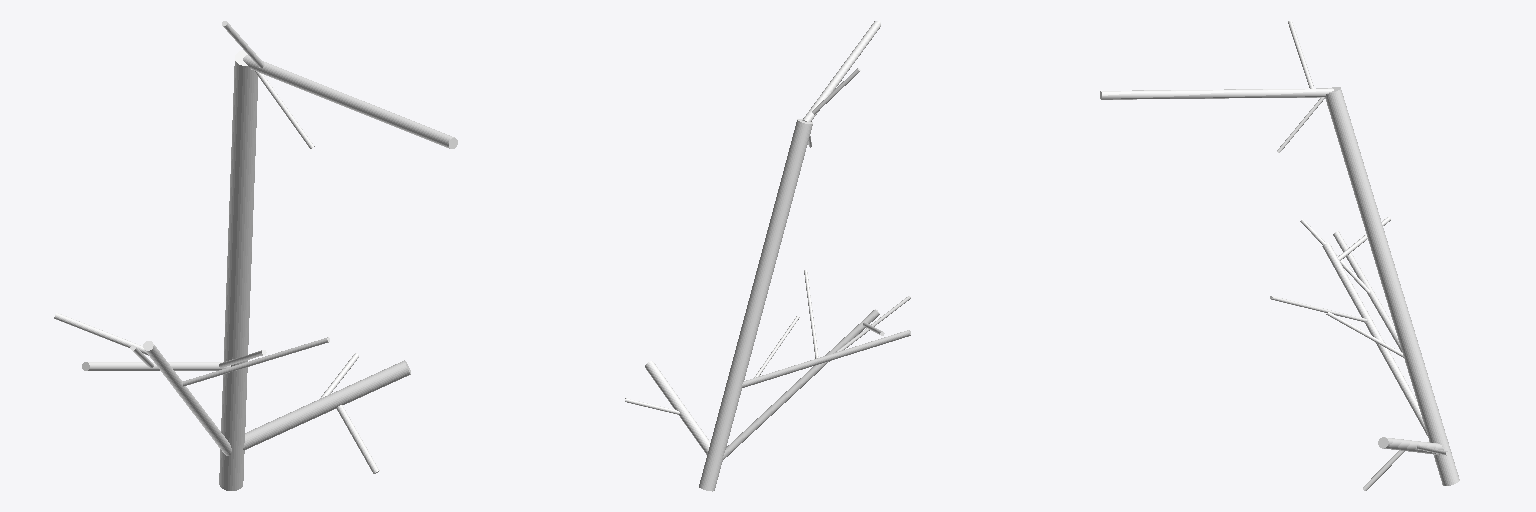
robot.urdf — tree_96.urdf:
<?xml version='1.0' encoding='UTF-8'?>
<robot name="tree_96.urdf">
  <link name="branch_0">
    <inertial>
      <origin xyz="0.0 0.0 0.0" rpy="0.0 -0.0 0.0"/>
      <mass value="1.0"/>
      <inertia ixx="1.0" ixy="0.0" ixz="0.0" iyy="1.0" iyz="0.0" izz="1.0"/>
    </inertial>
    <visual name="branch_0_visual">
      <geometry>
        <cylinder radius="0.1899470994558339" length="9.027752496511802"/>
      </geometry>
      <material name="branch_material"/>
      <origin xyz="-0.5842761966961398 -1.2560419379512286 4.296051531424033" rpy="2.7755575615628914e-17 0.31192909154505405 -2.0061958411400562"/>
    </visual>
    <collision name="branch_0_collision">
      <geometry>
        <cylinder radius="0.1899470994558339" length="9.027752496511802"/>
      </geometry>
      <origin xyz="-0.5842761966961398 -1.2560419379512286 4.296051531424033" rpy="2.7755575615628914e-17 0.31192909154505405 -2.0061958411400562"/>
    </collision>
  </link>
  <link name="branch_1">
    <inertial>
      <origin xyz="0.0 0.0 0.0" rpy="0.0 -0.0 0.0"/>
      <mass value="1.0"/>
      <inertia ixx="1.0" ixy="0.0" ixz="0.0" iyy="1.0" iyz="0.0" izz="1.0"/>
    </inertial>
    <visual name="branch_1_visual">
      <geometry>
        <cylinder radius="0.12092173037750653" length="3.032017718085981"/>
      </geometry>
      <material name="branch_material"/>
      <origin xyz="0.0 0.0 0.0" rpy="0.0 -0.0 0.0"/>
    </visual>
    <collision name="branch_1_collision">
      <geometry>
        <cylinder radius="0.12092173037750653" length="3.032017718085981"/>
      </geometry>
      <origin xyz="0.0 0.0 0.0" rpy="0.0 -0.0 0.0"/>
    </collision>
  </link>
  <link name="branch_2">
    <inertial>
      <origin xyz="0.0 0.0 0.0" rpy="0.0 -0.0 0.0"/>
      <mass value="1.0"/>
      <inertia ixx="1.0" ixy="0.0" ixz="0.0" iyy="1.0" iyz="0.0" izz="1.0"/>
    </inertial>
    <visual name="branch_2_visual">
      <geometry>
        <cylinder radius="0.04587833351401725" length="1.4158979097603237"/>
      </geometry>
      <material name="branch_material"/>
      <origin xyz="0.0 0.0 0.0" rpy="0.0 -0.0 0.0"/>
    </visual>
    <collision name="branch_2_collision">
      <geometry>
        <cylinder radius="0.04587833351401725" length="1.4158979097603237"/>
      </geometry>
      <origin xyz="0.0 0.0 0.0" rpy="0.0 -0.0 0.0"/>
    </collision>
  </link>
  <link name="branch_3">
    <inertial>
      <origin xyz="0.0 0.0 0.0" rpy="0.0 -0.0 0.0"/>
      <mass value="1.0"/>
      <inertia ixx="1.0" ixy="0.0" ixz="0.0" iyy="1.0" iyz="0.0" izz="1.0"/>
    </inertial>
    <visual name="branch_3_visual">
      <geometry>
        <cylinder radius="0.05501700755181191" length="1.314941629692915"/>
      </geometry>
      <material name="branch_material"/>
      <origin xyz="0.0 0.0 0.0" rpy="0.0 -0.0 0.0"/>
    </visual>
    <collision name="branch_3_collision">
      <geometry>
        <cylinder radius="0.05501700755181191" length="1.314941629692915"/>
      </geometry>
      <origin xyz="0.0 0.0 0.0" rpy="0.0 -0.0 0.0"/>
    </collision>
  </link>
  <link name="branch_4">
    <inertial>
      <origin xyz="0.0 0.0 0.0" rpy="0.0 -0.0 0.0"/>
      <mass value="1.0"/>
      <inertia ixx="1.0" ixy="0.0" ixz="0.0" iyy="1.0" iyz="0.0" izz="1.0"/>
    </inertial>
    <visual name="branch_4_visual">
      <geometry>
        <cylinder radius="0.09564544562204176" length="4.989395968988393"/>
      </geometry>
      <material name="branch_material"/>
      <origin xyz="0.0 0.0 0.0" rpy="0.0 -0.0 0.0"/>
    </visual>
    <collision name="branch_4_collision">
      <geometry>
        <cylinder radius="0.09564544562204176" length="4.989395968988393"/>
      </geometry>
      <origin xyz="0.0 0.0 0.0" rpy="0.0 -0.0 0.0"/>
    </collision>
  </link>
  <link name="branch_5">
    <inertial>
      <origin xyz="0.0 0.0 0.0" rpy="0.0 -0.0 0.0"/>
      <mass value="1.0"/>
      <inertia ixx="1.0" ixy="0.0" ixz="0.0" iyy="1.0" iyz="0.0" izz="1.0"/>
    </inertial>
    <visual name="branch_5_visual">
      <geometry>
        <cylinder radius="0.04977981041154065" length="1.6412234508201695"/>
      </geometry>
      <material name="branch_material"/>
      <origin xyz="0.0 0.0 0.0" rpy="0.0 -0.0 0.0"/>
    </visual>
    <collision name="branch_5_collision">
      <geometry>
        <cylinder radius="0.04977981041154065" length="1.6412234508201695"/>
      </geometry>
      <origin xyz="0.0 0.0 0.0" rpy="0.0 -0.0 0.0"/>
    </collision>
  </link>
  <link name="branch_6">
    <inertial>
      <origin xyz="0.0 0.0 0.0" rpy="0.0 -0.0 0.0"/>
      <mass value="1.0"/>
      <inertia ixx="1.0" ixy="0.0" ixz="0.0" iyy="1.0" iyz="0.0" izz="1.0"/>
    </inertial>
    <visual name="branch_6_visual">
      <geometry>
        <cylinder radius="0.04" length="1.6255553880958815"/>
      </geometry>
      <material name="branch_material"/>
      <origin xyz="0.0 0.0 0.0" rpy="0.0 -0.0 0.0"/>
    </visual>
    <collision name="branch_6_collision">
      <geometry>
        <cylinder radius="0.04" length="1.6255553880958815"/>
      </geometry>
      <origin xyz="0.0 0.0 0.0" rpy="0.0 -0.0 0.0"/>
    </collision>
  </link>
  <link name="branch_7">
    <inertial>
      <origin xyz="0.0 0.0 0.0" rpy="0.0 -0.0 0.0"/>
      <mass value="1.0"/>
      <inertia ixx="1.0" ixy="0.0" ixz="0.0" iyy="1.0" iyz="0.0" izz="1.0"/>
    </inertial>
    <visual name="branch_7_visual">
      <geometry>
        <cylinder radius="0.07230233625686015" length="4.367975760157247"/>
      </geometry>
      <material name="branch_material"/>
      <origin xyz="0.0 0.0 0.0" rpy="0.0 -0.0 0.0"/>
    </visual>
    <collision name="branch_7_collision">
      <geometry>
        <cylinder radius="0.07230233625686015" length="4.367975760157247"/>
      </geometry>
      <origin xyz="0.0 0.0 0.0" rpy="0.0 -0.0 0.0"/>
    </collision>
  </link>
  <link name="branch_8">
    <inertial>
      <origin xyz="0.0 0.0 0.0" rpy="0.0 -0.0 0.0"/>
      <mass value="1.0"/>
      <inertia ixx="1.0" ixy="0.0" ixz="0.0" iyy="1.0" iyz="0.0" izz="1.0"/>
    </inertial>
    <visual name="branch_8_visual">
      <geometry>
        <cylinder radius="0.04" length="2.003065713019798"/>
      </geometry>
      <material name="branch_material"/>
      <origin xyz="0.0 0.0 0.0" rpy="0.0 -0.0 0.0"/>
    </visual>
    <collision name="branch_8_collision">
      <geometry>
        <cylinder radius="0.04" length="2.003065713019798"/>
      </geometry>
      <origin xyz="0.0 0.0 0.0" rpy="0.0 -0.0 0.0"/>
    </collision>
  </link>
  <link name="branch_9">
    <inertial>
      <origin xyz="0.0 0.0 0.0" rpy="0.0 -0.0 0.0"/>
      <mass value="1.0"/>
      <inertia ixx="1.0" ixy="0.0" ixz="0.0" iyy="1.0" iyz="0.0" izz="1.0"/>
    </inertial>
    <visual name="branch_9_visual">
      <geometry>
        <cylinder radius="0.04270445176647928" length="2.2622912086783846"/>
      </geometry>
      <material name="branch_material"/>
      <origin xyz="0.0 0.0 0.0" rpy="0.0 -0.0 0.0"/>
    </visual>
    <collision name="branch_9_collision">
      <geometry>
        <cylinder radius="0.04270445176647928" length="2.2622912086783846"/>
      </geometry>
      <origin xyz="0.0 0.0 0.0" rpy="0.0 -0.0 0.0"/>
    </collision>
  </link>
  <link name="branch_10">
    <inertial>
      <origin xyz="0.0 0.0 0.0" rpy="0.0 -0.0 0.0"/>
      <mass value="1.0"/>
      <inertia ixx="1.0" ixy="0.0" ixz="0.0" iyy="1.0" iyz="0.0" izz="1.0"/>
    </inertial>
    <visual name="branch_10_visual">
      <geometry>
        <cylinder radius="0.08516685927478852" length="5.257370010622279"/>
      </geometry>
      <material name="branch_material"/>
      <origin xyz="0.0 0.0 0.0" rpy="0.0 -0.0 0.0"/>
    </visual>
    <collision name="branch_10_collision">
      <geometry>
        <cylinder radius="0.08516685927478852" length="5.257370010622279"/>
      </geometry>
      <origin xyz="0.0 0.0 0.0" rpy="0.0 -0.0 0.0"/>
    </collision>
  </link>
  <link name="branch_11">
    <inertial>
      <origin xyz="0.0 0.0 0.0" rpy="0.0 -0.0 0.0"/>
      <mass value="1.0"/>
      <inertia ixx="1.0" ixy="0.0" ixz="0.0" iyy="1.0" iyz="0.0" izz="1.0"/>
    </inertial>
    <visual name="branch_11_visual">
      <geometry>
        <cylinder radius="0.04" length="2.842973932666352"/>
      </geometry>
      <material name="branch_material"/>
      <origin xyz="0.0 0.0 0.0" rpy="0.0 -0.0 0.0"/>
    </visual>
    <collision name="branch_11_collision">
      <geometry>
        <cylinder radius="0.04" length="2.842973932666352"/>
      </geometry>
      <origin xyz="0.0 0.0 0.0" rpy="0.0 -0.0 0.0"/>
    </collision>
  </link>
  <link name="branch_12">
    <inertial>
      <origin xyz="0.0 0.0 0.0" rpy="0.0 -0.0 0.0"/>
      <mass value="1.0"/>
      <inertia ixx="1.0" ixy="0.0" ixz="0.0" iyy="1.0" iyz="0.0" izz="1.0"/>
    </inertial>
    <visual name="branch_12_visual">
      <geometry>
        <cylinder radius="0.05222552821093494" length="1.6790892239705517"/>
      </geometry>
      <material name="branch_material"/>
      <origin xyz="0.0 0.0 0.0" rpy="0.0 -0.0 0.0"/>
    </visual>
    <collision name="branch_12_collision">
      <geometry>
        <cylinder radius="0.05222552821093494" length="1.6790892239705517"/>
      </geometry>
      <origin xyz="0.0 0.0 0.0" rpy="0.0 -0.0 0.0"/>
    </collision>
  </link>
  <joint name="joint_0_1" type="fixed">
    <parent link="branch_0"/>
    <child link="branch_1"/>
    <axis xyz="1. 0. 0."/>
    <origin xyz="1.128035844005691 -0.8216820423734231 1.3736147237210388" rpy="0.6181690558822588 1.0172241192391978 0.23480727968390483"/>
  </joint>
  <joint name="joint_0_4" type="fixed">
    <parent link="branch_0"/>
    <child link="branch_4"/>
    <axis xyz="1. 0. 0."/>
    <origin xyz="-0.7186565451613698 -4.944040508126744 8.71109695420975" rpy="1.2067981924979854 1.3704167807234329 -0.17873968640780374"/>
  </joint>
  <joint name="joint_0_7" type="fixed">
    <parent link="branch_0"/>
    <child link="branch_7"/>
    <axis xyz="1. 0. 0."/>
    <origin xyz="-2.1681554059263113 -1.5584888106120025 3.142468361873547" rpy="-0.5563922371756964 1.137283873422189 2.9799317202813955"/>
  </joint>
  <joint name="joint_0_10" type="fixed">
    <parent link="branch_0"/>
    <child link="branch_10"/>
    <axis xyz="1. 0. 0."/>
    <origin xyz="-1.5478059118097918 -1.405207154273746 2.347085413203801" rpy="-0.2594132270235041 0.7895665352037889 -2.798376538347"/>
  </joint>
  <joint name="joint_1_2" type="fixed">
    <parent link="branch_0"/>
    <child link="branch_2"/>
    <axis xyz="1. 0. 0."/>
    <origin xyz="1.6330420474645697 -0.4275325673750112 1.5192847825011075" rpy="1.2863117808985562 0.34472598885905853 2.0196159617939973"/>
  </joint>
  <joint name="joint_1_3" type="fixed">
    <parent link="branch_0"/>
    <child link="branch_3"/>
    <axis xyz="1. 0. 0."/>
    <origin xyz="1.448902406932617 -1.3834561403099461 1.0246753913342" rpy="-2.526093945171764 0.5312928452590229 2.7484954170997"/>
  </joint>
  <joint name="joint_4_5" type="fixed">
    <parent link="branch_0"/>
    <child link="branch_5"/>
    <axis xyz="1. 0. 0."/>
    <origin xyz="-1.587238202823353 -3.1557380864085687 9.164693751186352" rpy="-0.7432388572104859 -0.10885454587009073 1.9135227598082478"/>
  </joint>
  <joint name="joint_4_6" type="fixed">
    <parent link="branch_0"/>
    <child link="branch_6"/>
    <axis xyz="1. 0. 0."/>
    <origin xyz="-0.8928411768669652 -3.1361906424561194 7.966338987816046" rpy="2.8204919357229 0.7256887824527779 1.5493878685855216"/>
  </joint>
  <joint name="joint_7_8" type="fixed">
    <parent link="branch_0"/>
    <child link="branch_8"/>
    <axis xyz="1. 0. 0."/>
    <origin xyz="-0.8263804945294766 -1.7517222197709836 3.0295222145318217" rpy="1.0551799522686283 0.07849118768211036 -0.1512391951250991"/>
  </joint>
  <joint name="joint_7_9" type="fixed">
    <parent link="branch_0"/>
    <child link="branch_9"/>
    <axis xyz="1. 0. 0."/>
    <origin xyz="-2.9860386191784847 -2.4059720612159814 3.8347339317712574" rpy="0.9839067850440716 -0.28559769349351916 -0.4935043977580612"/>
  </joint>
  <joint name="joint_10_11" type="fixed">
    <parent link="branch_0"/>
    <child link="branch_11"/>
    <axis xyz="1. 0. 0."/>
    <origin xyz="-1.1970496698227786 -2.7734927490451846 3.472450893373357" rpy="1.0053380681667372 0.59781778065087 0.29457936490877645"/>
  </joint>
  <joint name="joint_10_12" type="fixed">
    <parent link="branch_0"/>
    <child link="branch_12"/>
    <axis xyz="1. 0. 0."/>
    <origin xyz="-3.3485162434765137 -1.8752756724300388 4.082945845017733" rpy="-1.1962901366398666 0.6804951816526956 1.0275143478339759"/>
  </joint>
  <material name="branch_material">
    <color rgba="1. 1. 1. 1."/>
  </material>
</robot>

--- Facts derived from the render (not from the file) ---
Views: 3 orthographic renders of the robot side by side, from view 1: azimuth 30°, elevation 25°; view 2: azimuth 150°, elevation 25°; view 3: azimuth 270°, elevation 25°.
Robot: tree_96.urdf — 13 links, 12 joints (12 fixed); root link branch_0; default pose: every joint at zero.
Links seen in each view (by area): view 1: branch_0, branch_1, branch_4, branch_10, branch_7, branch_11, branch_12, branch_3; view 2: branch_0, branch_10, branch_7, branch_1, branch_4; view 3: branch_0, branch_4, branch_10, branch_7, branch_1.
Boxes of the visible links, x1=… form: branch_0: x1=219, y1=50, x2=258, y2=490; branch_1: x1=243, y1=360, x2=410, y2=450; branch_4: x1=243, y1=55, x2=457, y2=148; branch_10: x1=143, y1=341, x2=231, y2=455; branch_7: x1=82, y1=362, x2=230, y2=370; branch_11: x1=183, y1=337, x2=329, y2=386; branch_12: x1=54, y1=313, x2=148, y2=355; branch_3: x1=336, y1=405, x2=379, y2=473; branch_0: x1=699, y1=119, x2=812, y2=491; branch_10: x1=723, y1=309, x2=879, y2=459; branch_7: x1=742, y1=330, x2=910, y2=387; branch_1: x1=645, y1=361, x2=710, y2=454; branch_4: x1=802, y1=21, x2=880, y2=121; branch_0: x1=1325, y1=87, x2=1459, y2=485; branch_4: x1=1100, y1=88, x2=1333, y2=99; branch_10: x1=1322, y1=242, x2=1427, y2=435; branch_7: x1=1333, y1=231, x2=1401, y2=351; branch_1: x1=1378, y1=437, x2=1443, y2=454.
Size in the robot's own frame: 6.48 by 7.59 by 9.86 metres.
Geometry: primitives only (box / cylinder / sphere), no mesh files.